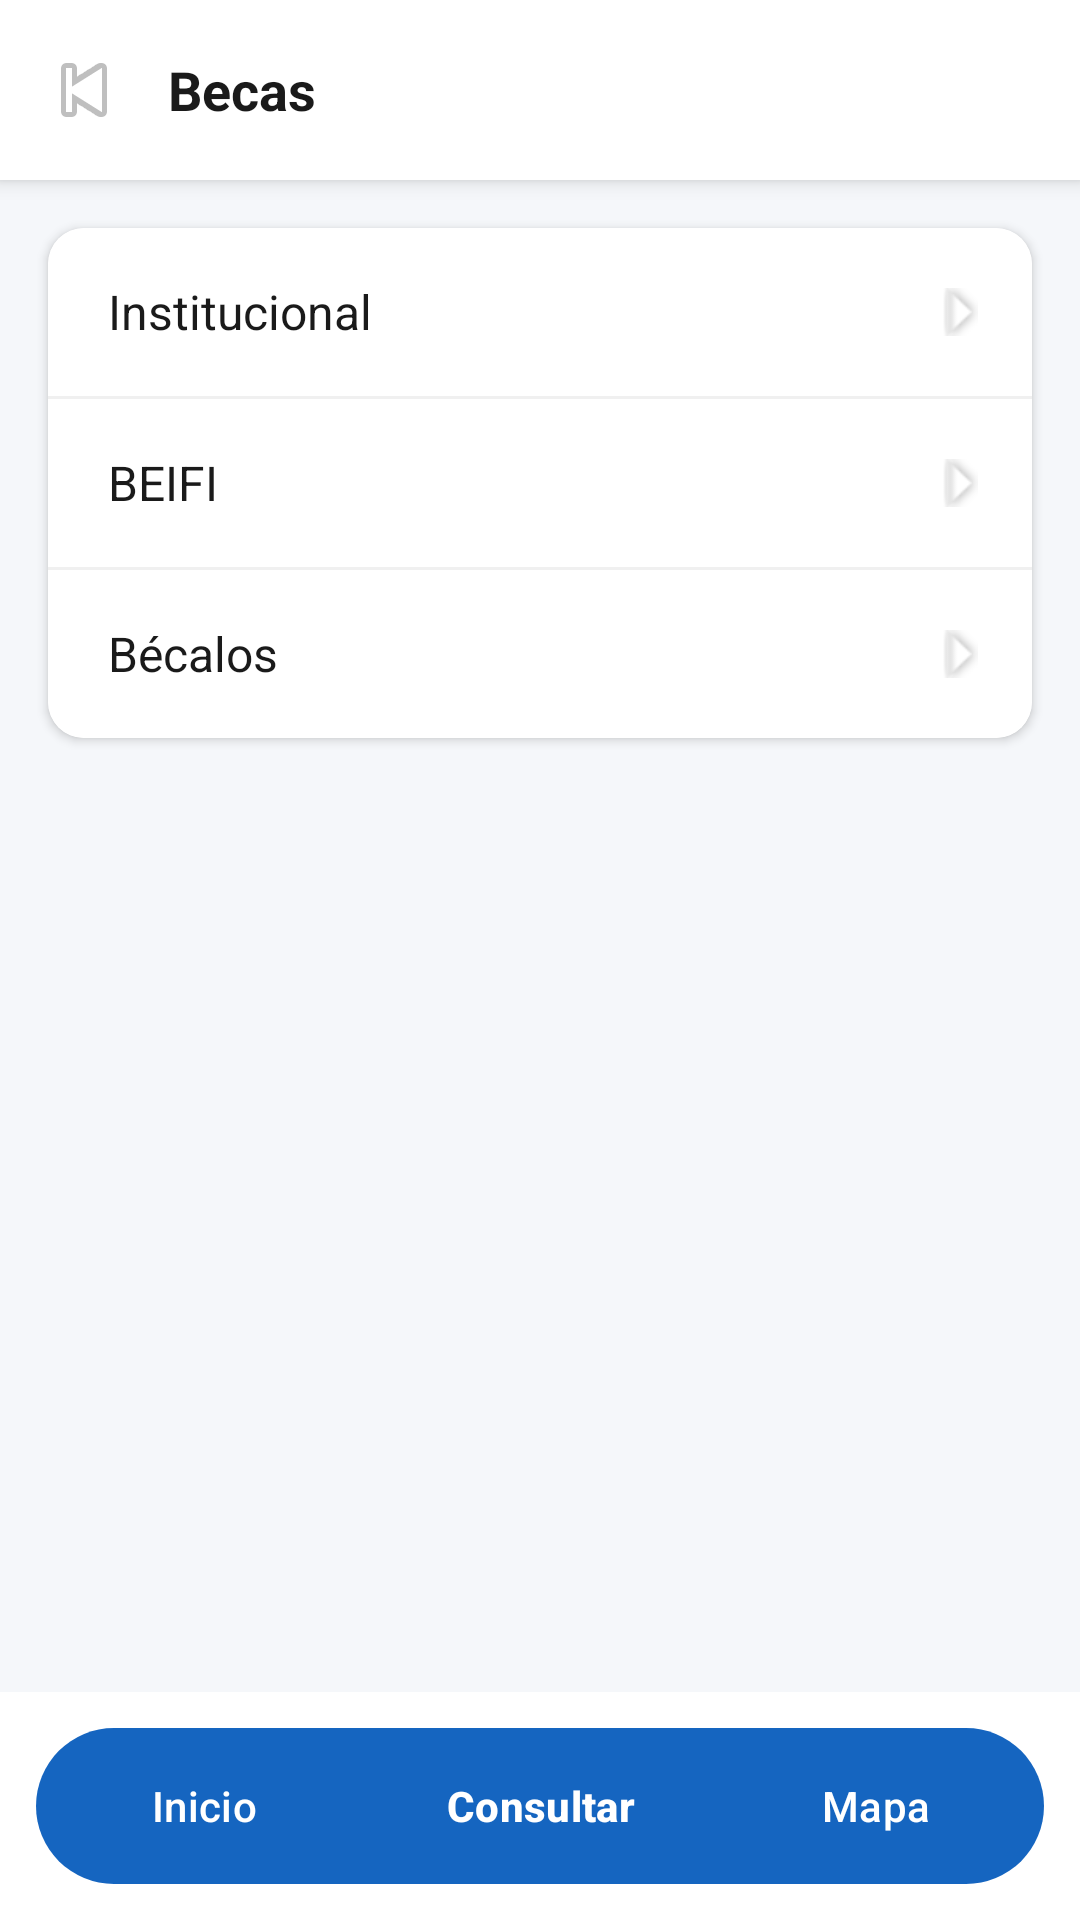

Icons on this 1080 × 1920 Android screen, each with its box as region(x1, y1, x2, y2):
previous: region(61, 63, 107, 117)
